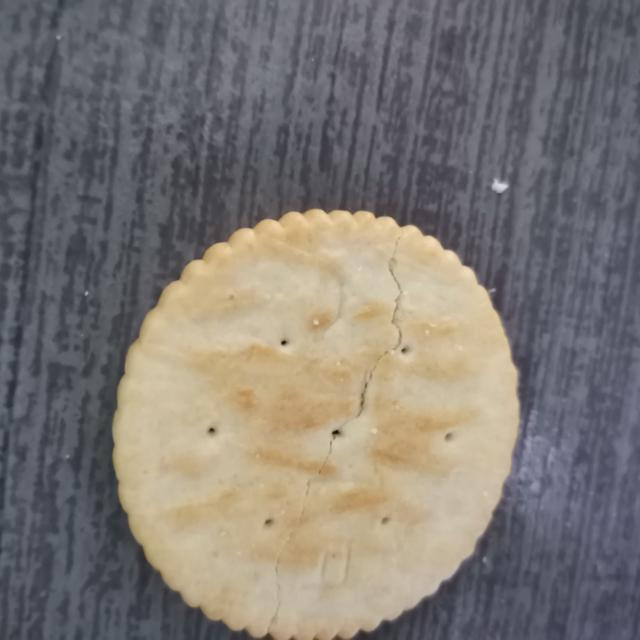Fracture: (256, 220, 411, 640)
